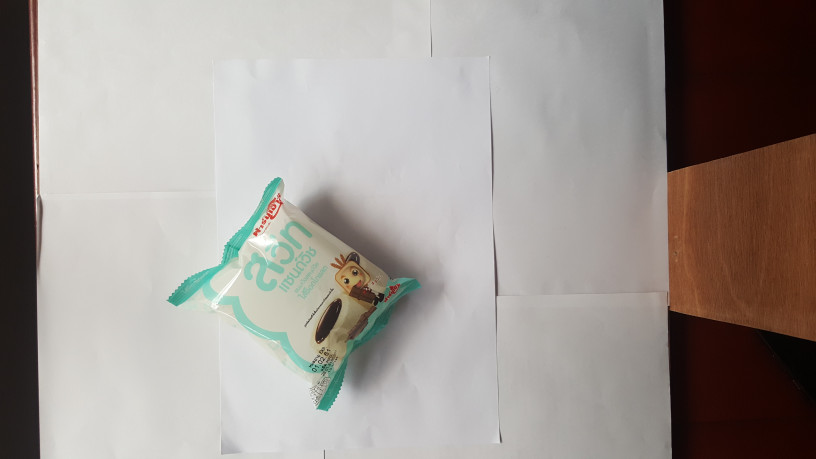farmhouse-sweetsandwich-chocolate: (165, 177, 422, 413)
